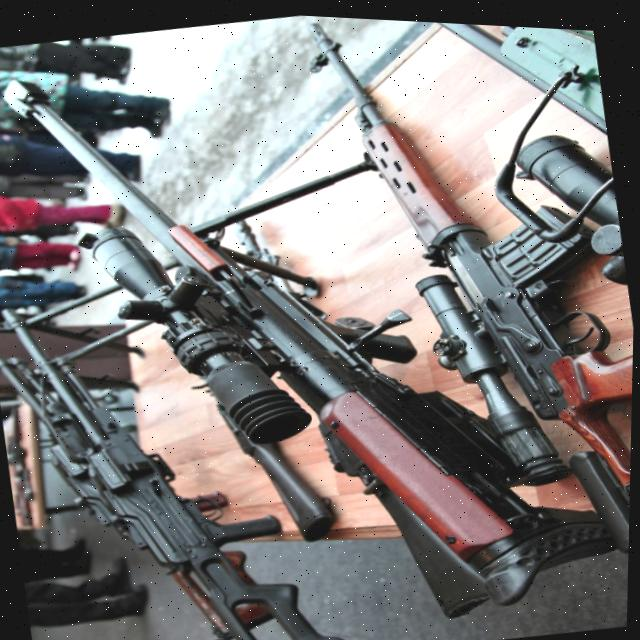firearm: (0, 0, 640, 640), (286, 12, 640, 640), (0, 258, 365, 640), (0, 283, 268, 640), (370, 15, 637, 339), (216, 383, 346, 552)
